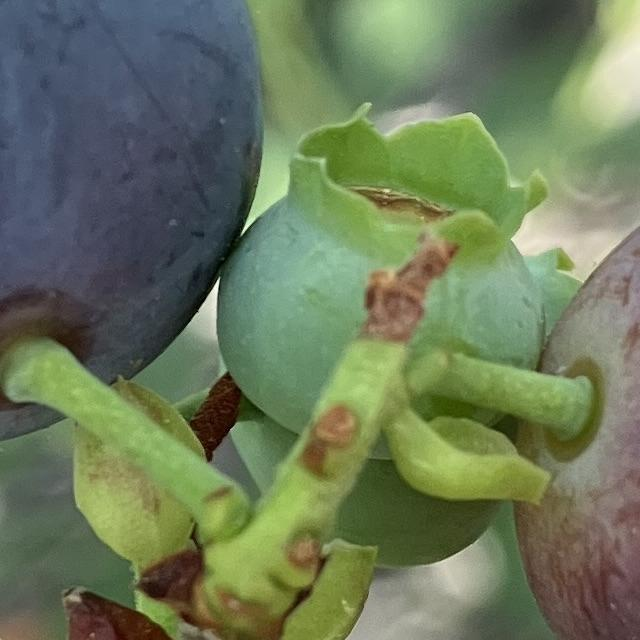Blueberries: (0, 0, 265, 453)
